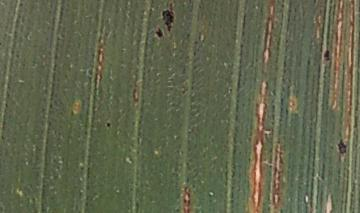tarspot: (160, 7, 177, 34), (336, 138, 348, 157), (322, 47, 333, 65), (153, 25, 165, 39), (104, 120, 112, 128)
